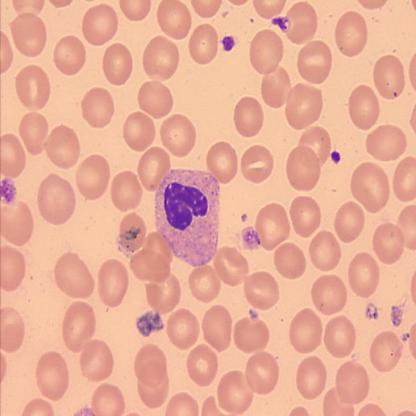Band Neutrophil: (152, 166, 224, 270)
